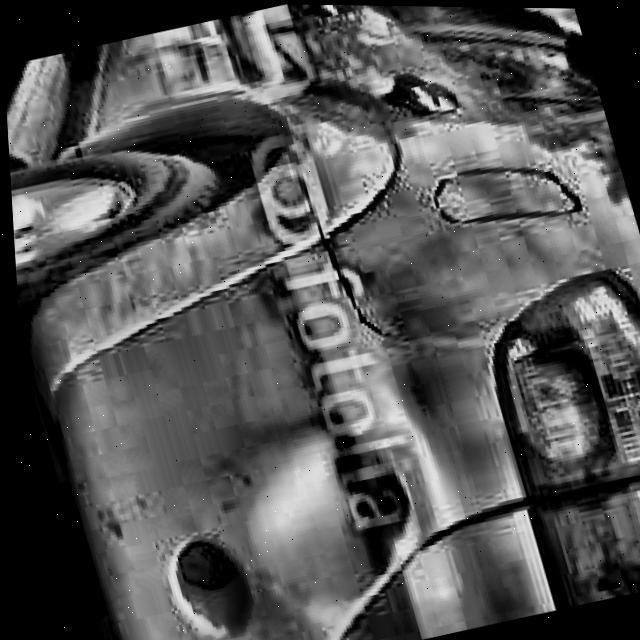bumper_dent: (367, 333, 542, 634), (226, 415, 423, 621)
